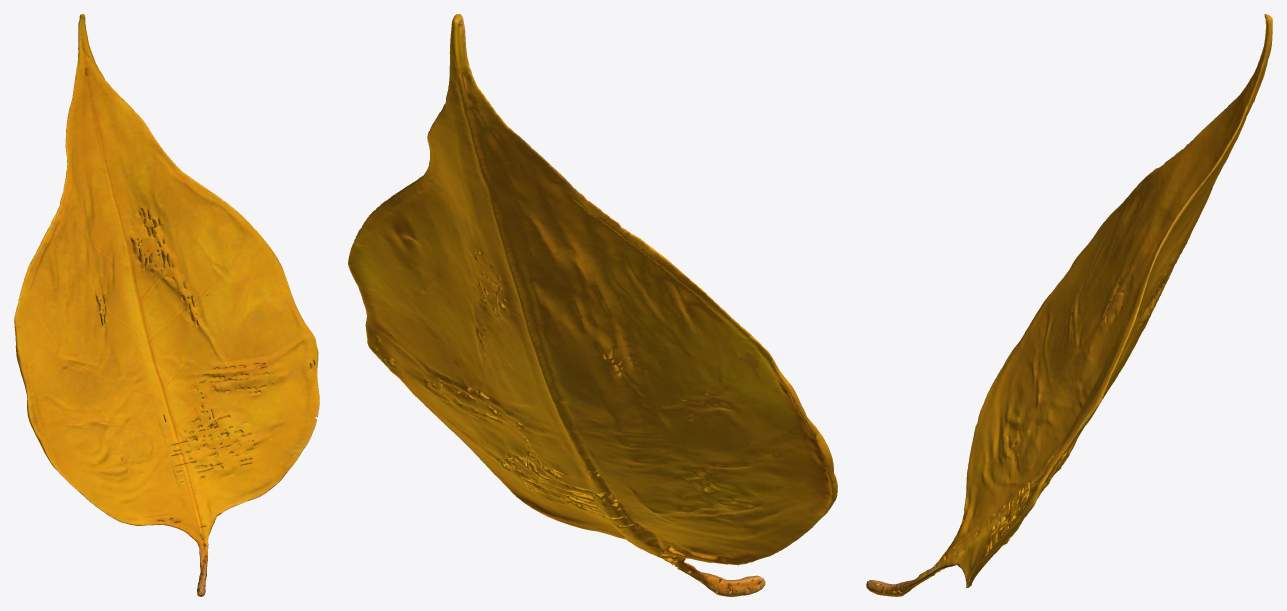
The model's file is Meshy_AI_golden_leaf_with_magi_1115232724_texture.glb.
The picture shows the model from 3 angles, left to right: view 1: azimuth 30°, elevation 25°; view 2: azimuth 150°, elevation 25°; view 3: azimuth 270°, elevation 25°; orthographic projection. The views are drawn at different scales.
Size of the model in its own units: 1.3 by 1.99 by 1.23.
1 material, 1 textured.
